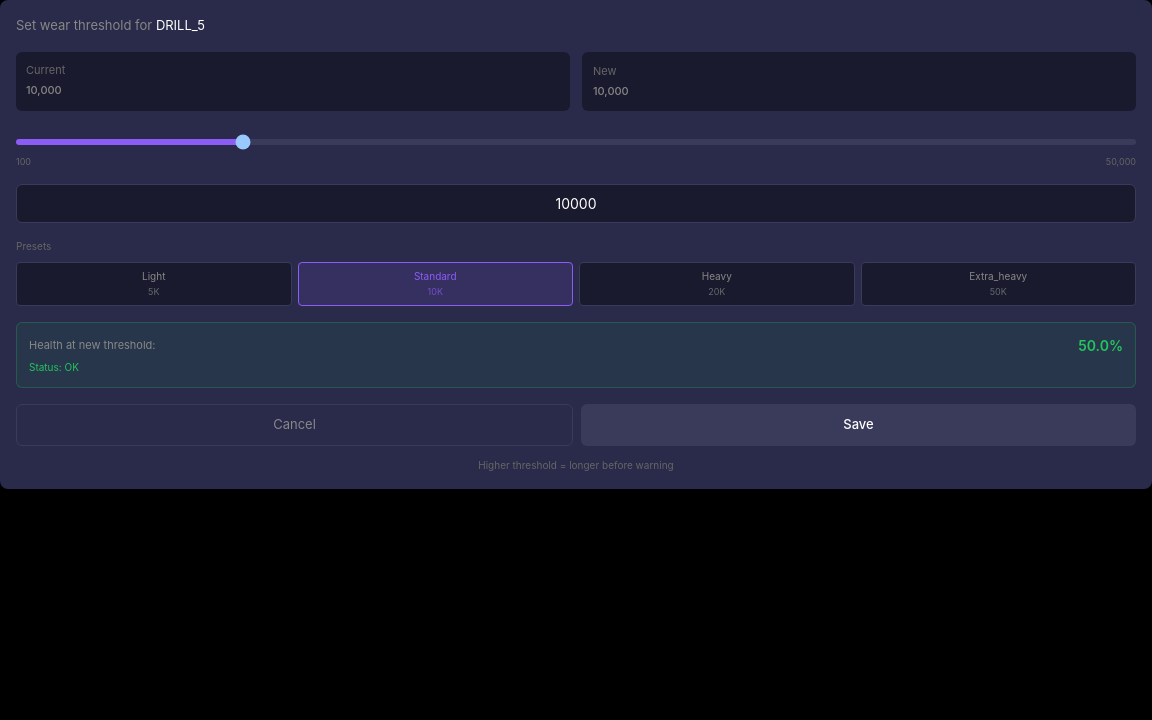
ToolThresholdEditor › Slider interaction › updates displayed value when slider changes
This screenshot has width=1152, height=720.
Set the slider to "15000" at point(354, 142), box [16,138,1136,144]
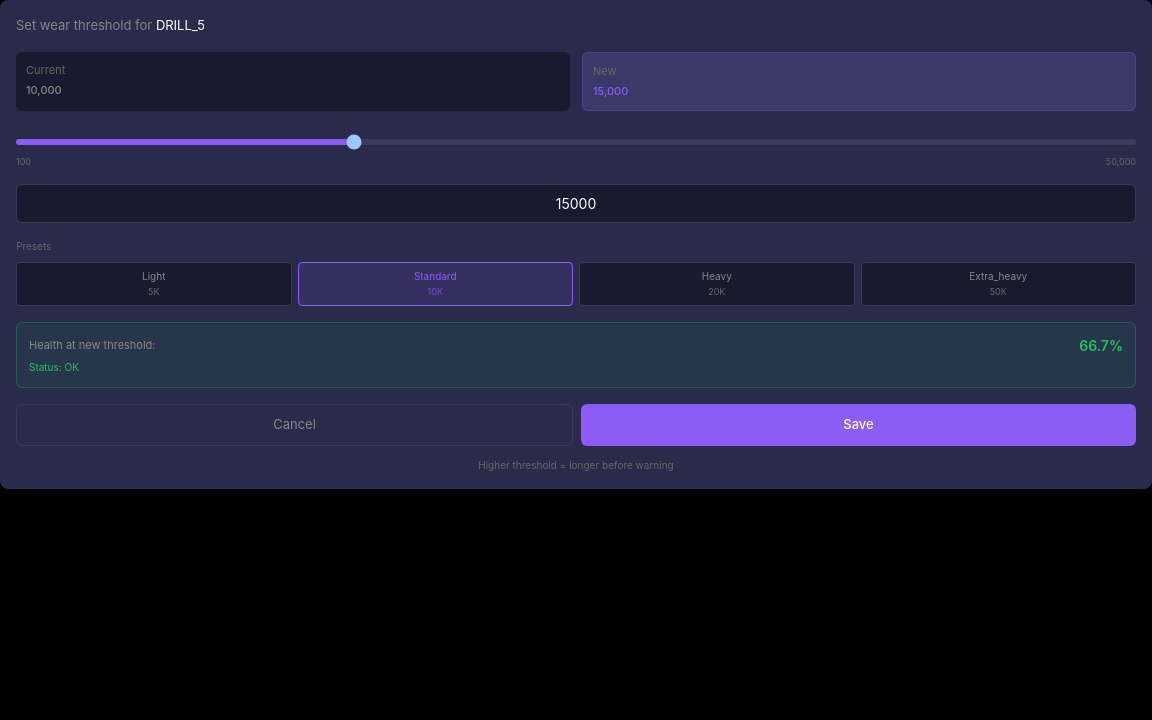
Check: the field holds "15000", box [16,184,1136,223]
